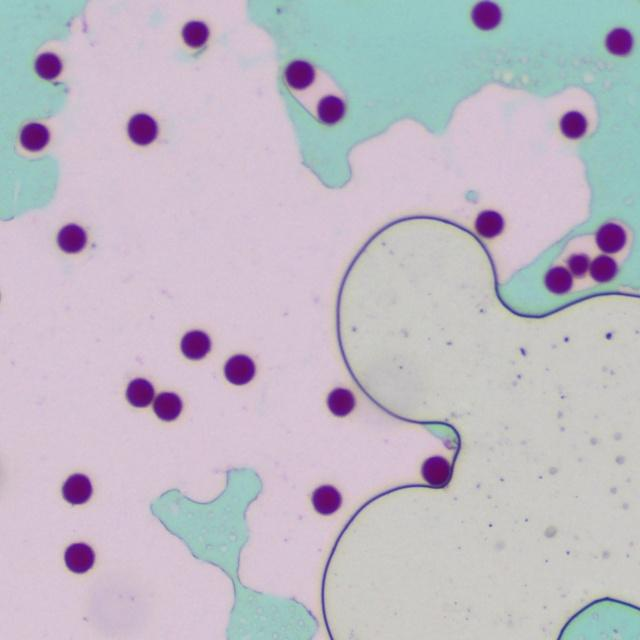viable: (128, 113, 157, 145), (65, 542, 94, 572), (596, 222, 625, 252), (181, 330, 210, 359), (225, 355, 254, 384), (285, 60, 314, 89), (63, 474, 91, 503), (312, 485, 340, 514), (126, 378, 154, 407), (422, 456, 450, 485), (471, 1, 500, 29), (21, 123, 49, 151), (153, 392, 181, 420), (58, 224, 86, 252), (605, 27, 632, 55), (327, 388, 354, 416), (545, 266, 572, 293), (34, 52, 61, 79), (475, 211, 503, 237), (182, 21, 208, 48), (318, 96, 344, 123), (560, 111, 586, 138), (590, 255, 616, 281), (568, 254, 588, 276)
